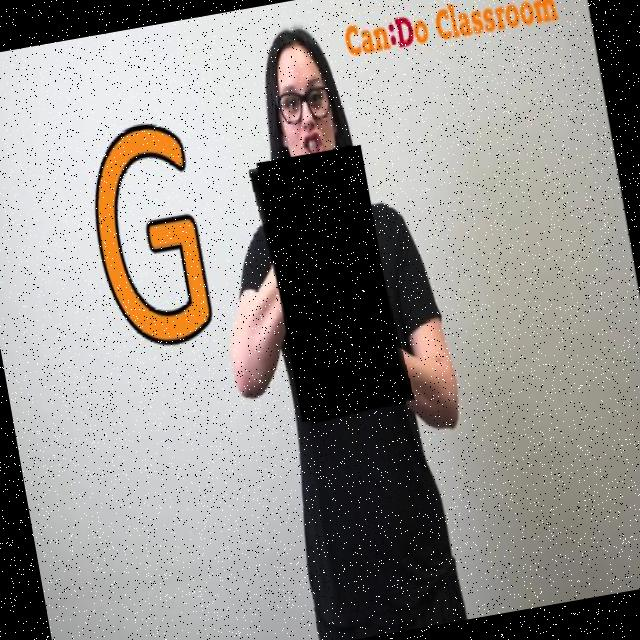G: (253, 145, 412, 426)
